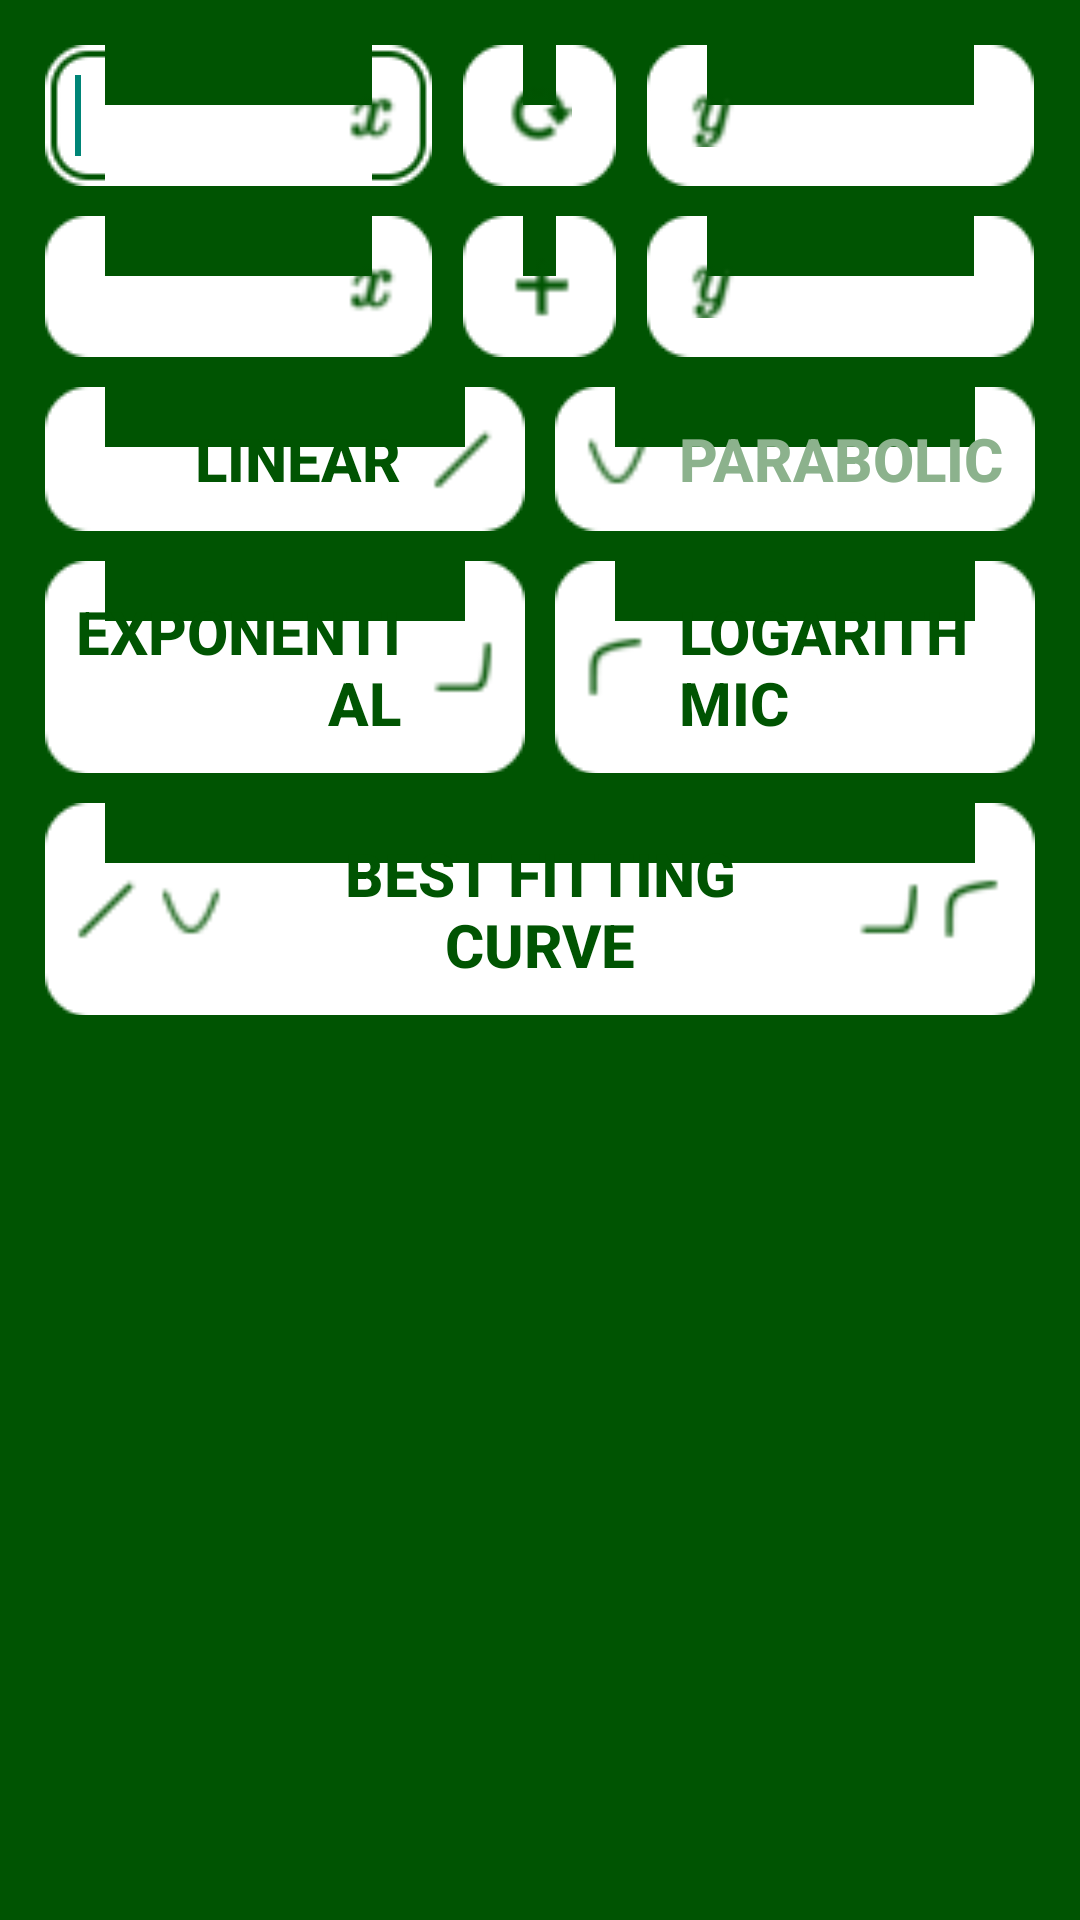

Icon bounding boxes for this 1080px x 1920px phone screenshot, format bbox=(x1, y1, x2, y2):
add: bbox=(463, 216, 616, 357)
reset: bbox=(463, 45, 616, 186)
